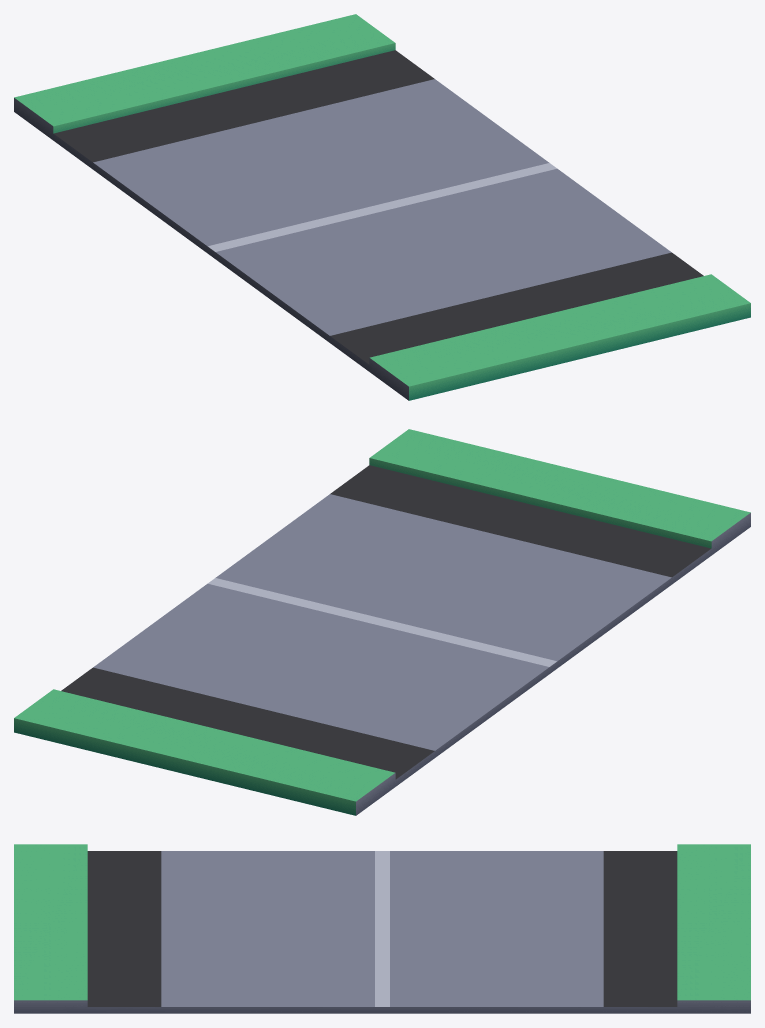
File: road_straight_half.glb
The picture shows the model from 3 angles, top to bottom: view 1: azimuth 30°, elevation 25°; view 2: azimuth 150°, elevation 25°; view 3: azimuth 270°, elevation 25°; orthographic projection. The views are drawn at different scales.
Visible parts, largest first — view 1: road-straight-half; view 2: road-straight-half; view 3: road-straight-half.
Part boxes in pixels (x1,y1,x2,y2): road-straight-half: (14,14,750,400); road-straight-half: (14,429,750,815); road-straight-half: (14,844,750,1013).
Bounding box in the file's own units: 0.5 × 0.02 × 1.
Materials: 1 (1 with a texture image).
